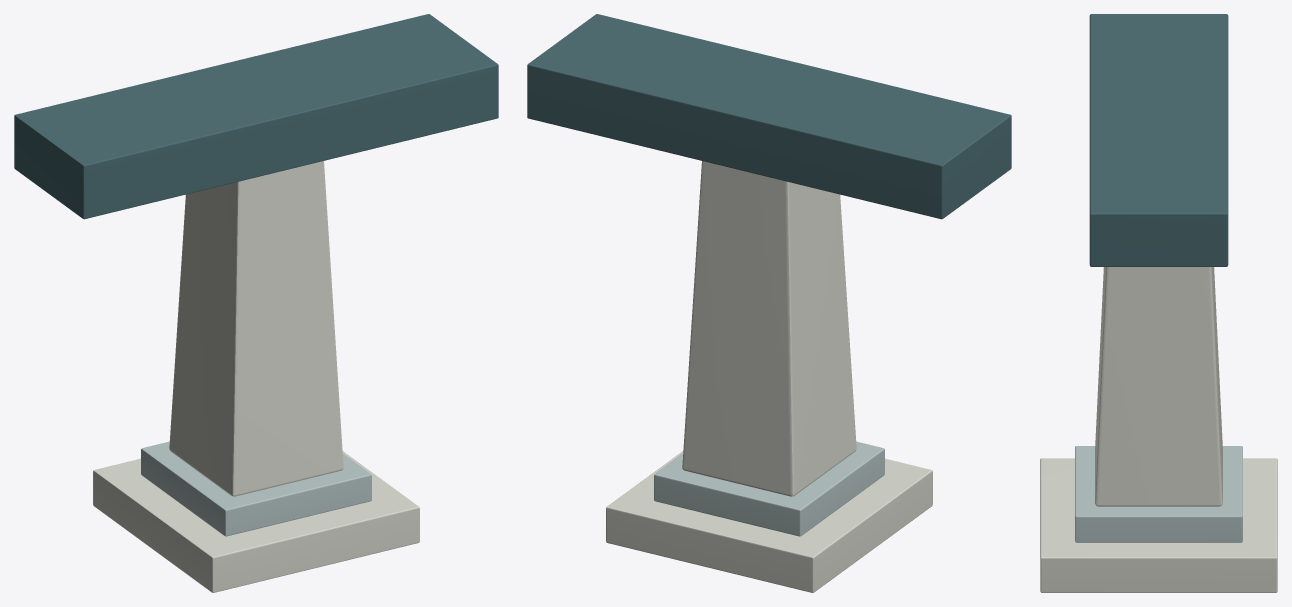
Rendered from d06_harbour_footbridge_06_support_mid.glb.
The picture shows the model from 3 angles, left to right: view 1: azimuth 30°, elevation 25°; view 2: azimuth 150°, elevation 25°; view 3: azimuth 270°, elevation 25°; orthographic projection.
Parts seen in each view (by area): view 1: D06HarbourFootbridge06_support_mid_Mesh; view 2: D06HarbourFootbridge06_support_mid_Mesh; view 3: D06HarbourFootbridge06_support_mid_Mesh.
Boxes of the visible parts, x1,y1,x2,y2 form: D06HarbourFootbridge06_support_mid_Mesh: (14,14,498,592); D06HarbourFootbridge06_support_mid_Mesh: (527,14,1011,592); D06HarbourFootbridge06_support_mid_Mesh: (1040,14,1277,592).
Size of the model in its own units: 2.4 by 2.4 by 1.2.
